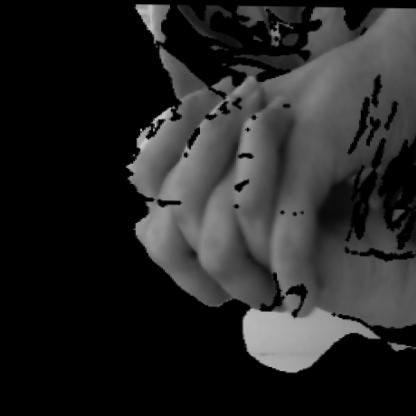prayer: (101, 43, 415, 352)
